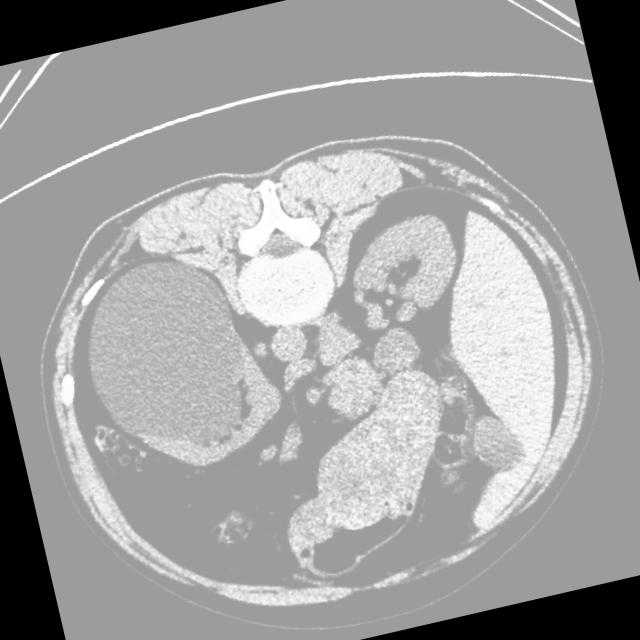cysts: (9, 97, 639, 640)
